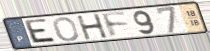7: (154, 5, 179, 35)
9: (133, 9, 156, 36)
E: (24, 18, 59, 45)
F: (100, 11, 132, 39)
H: (75, 13, 110, 41)
O: (53, 16, 81, 43)
